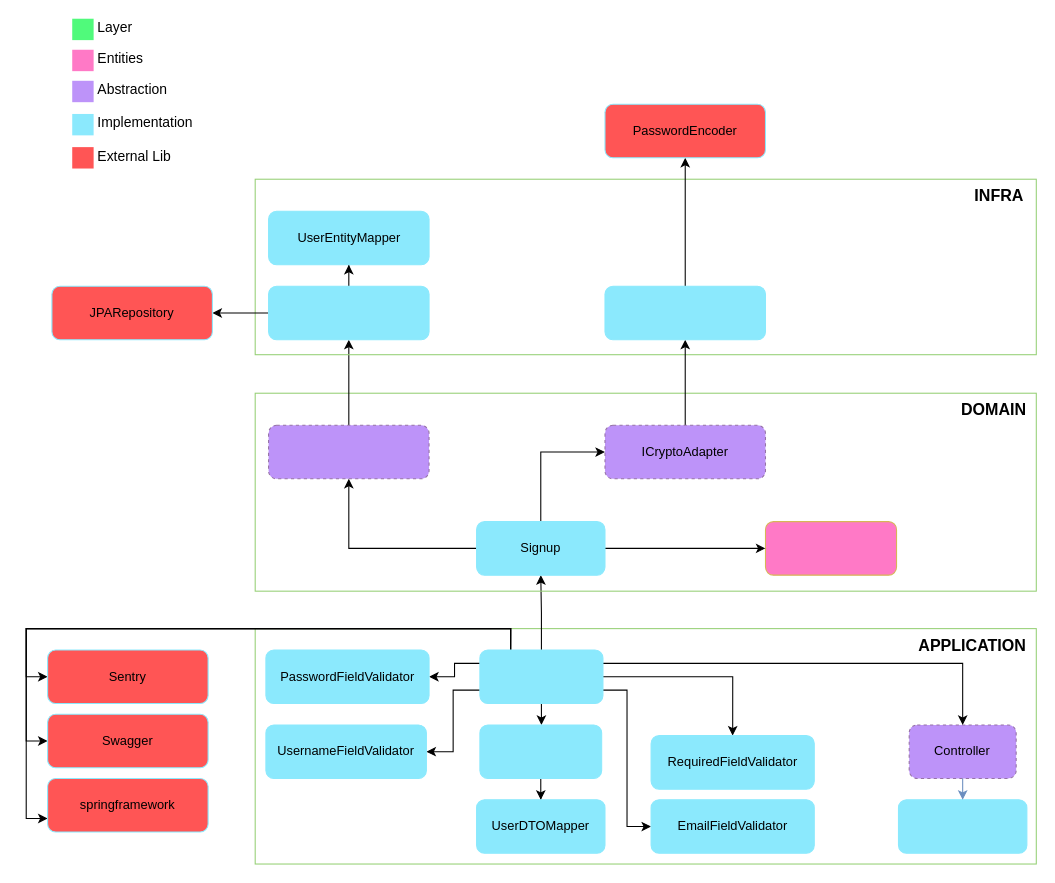
The diagram is 1055 pixels wide and 883 high, and some of its shapes have lost their labels. Here are the shapes that lost their labels. From the top down, the centre of each, then its label:
At [348,312]: "UserAdapter".
At [684,312]: "CryptoAdapter".
At [348,451]: "IUserAdapter".
At [830,548]: "ConflictException".
At [541,676]: "SignupController".
At [540,751]: "ValidationBuilder".
At [962,826]: "ValidationComposite".
